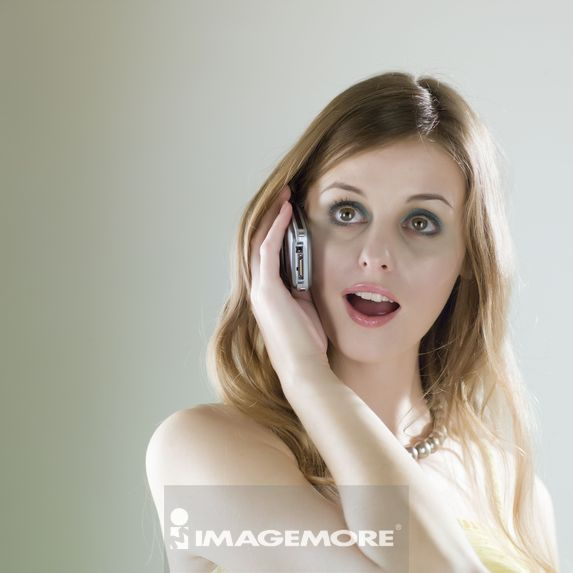phone: (273, 191, 320, 292)
talk: (245, 162, 463, 417)
